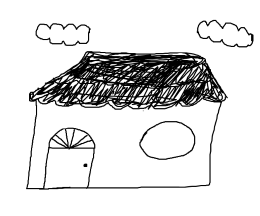clouds: (30, 13, 95, 49), (195, 15, 258, 52)
door: (39, 120, 101, 197)
open_window: (127, 119, 206, 162)
shaded_roof: (17, 48, 239, 112)
wall: (21, 101, 218, 195)
